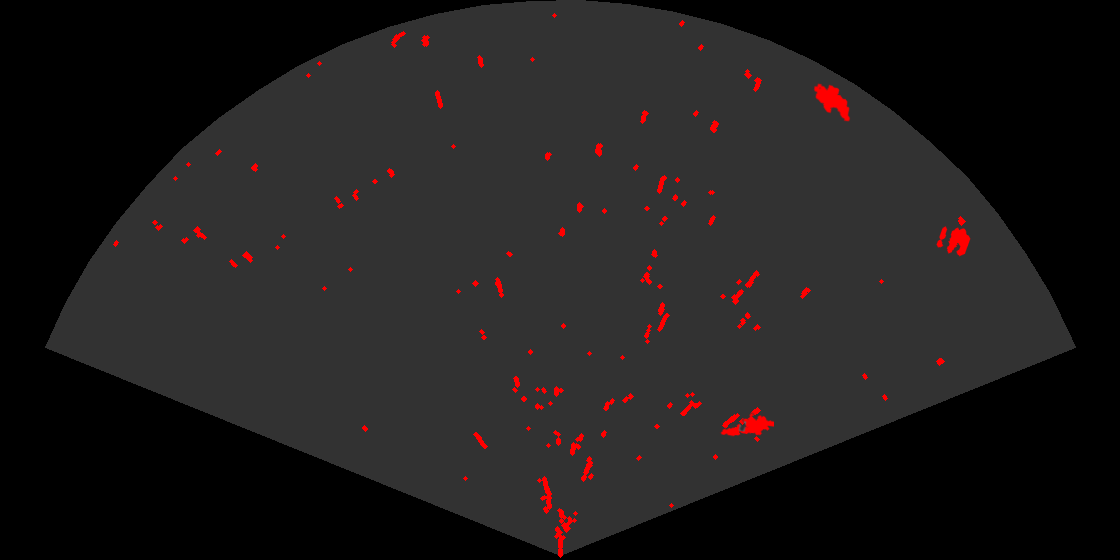AUV: (812, 82, 852, 123)
ball: (935, 225, 972, 258)
frogman: (719, 412, 774, 438)
